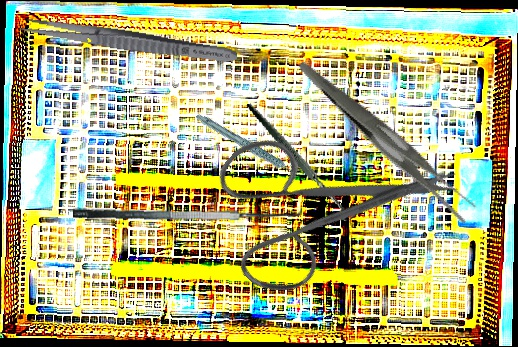Dressing Forceps: (297, 22, 481, 257), (17, 14, 239, 68)
Handpiece: (194, 96, 299, 198)
Hook Surgical: (246, 83, 363, 238)
Iris Scissors: (177, 52, 467, 345)
Spatula Surgical: (72, 189, 303, 227)
